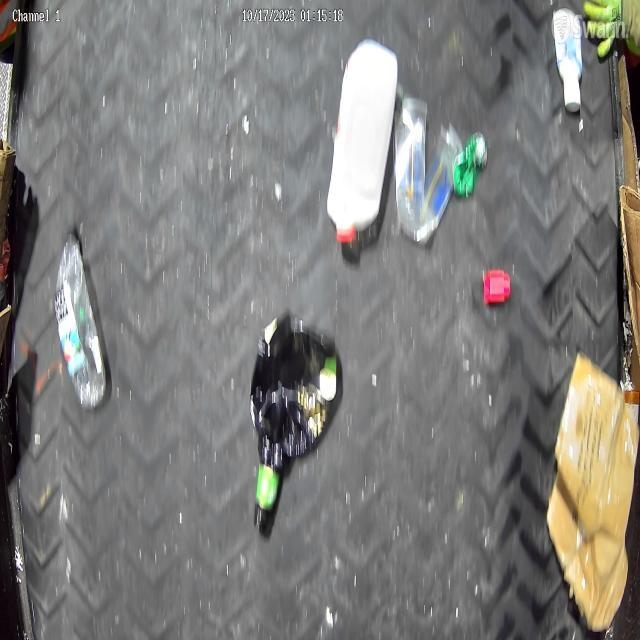milk_jug: (326, 38, 398, 245)
plastic_bottle: (54, 224, 108, 411)
